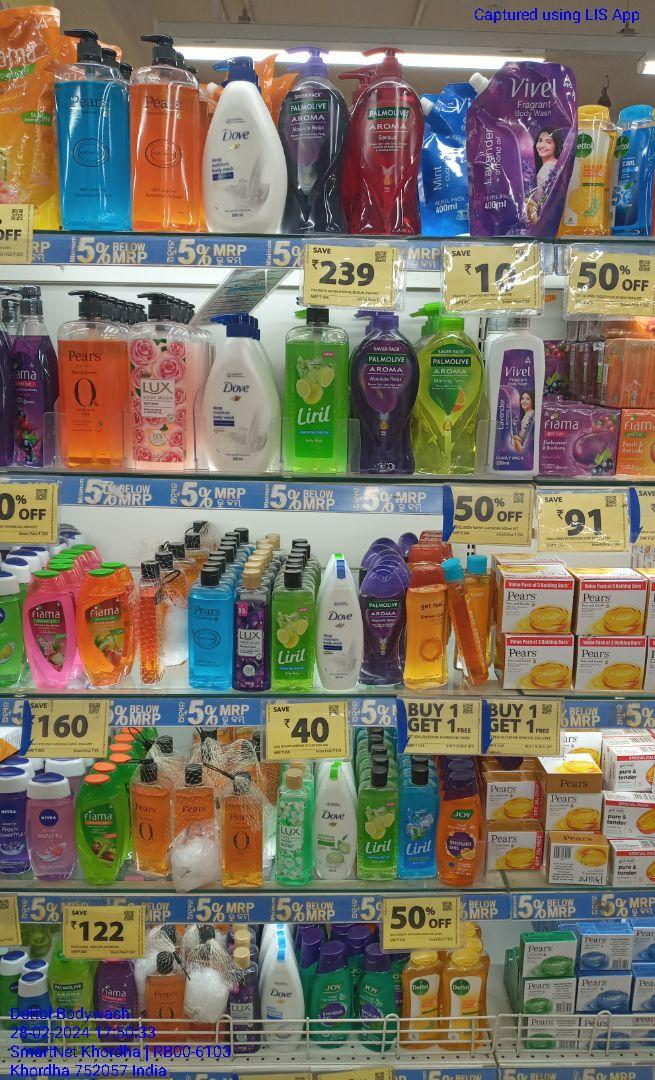Dettol_Bodywash_Cool: (615, 104, 655, 234)
Dettol_Bodywash_Refresh: (572, 102, 611, 238), (443, 954, 483, 1051), (406, 954, 441, 1050)
Dove_Deep_Moisture_Body_Wash_250ML: (320, 562, 361, 693)
Dove_Gentle_Exfoliating_Body_Wash_250ML: (261, 945, 303, 1052)
Dove_Refreshing_Body_Wash_250ML: (317, 764, 357, 881)
Fiama_Shower_Gel_Lemongrass_and_Jojoba_250ML: (78, 569, 129, 686), (75, 775, 123, 888)
Fiama_Shower_Gel_Patchouli_and_Macadamia_250ML: (25, 569, 74, 693)
Get_Real_Shower_Gel_Moisturising_Glycerin_300ML: (409, 564, 449, 689)
Joy_Shower_Gel_Mandarin_and_Lemongrass_250ML: (440, 772, 482, 890)
Joy_Shower_Gel_Mint_and_Eucalyptus_250ML: (357, 950, 393, 1053), (315, 949, 353, 1046)
Liril_Cooling_Mint_Body_Wash_250ML: (401, 766, 437, 880)
Liril_Lime_and_Tea_Tree_Oil_Body_Wash_250ML: (275, 565, 313, 695), (360, 766, 396, 882)
Lux_Black_Orchid_Scent_and_Juniper_Oil_Body_Wash_245ML: (237, 565, 273, 693)
Lux_Body_Wash_Skin_Detox_Freesia_Scent_and_Alove_Vera_245ML: (274, 770, 309, 887), (227, 950, 258, 1056)
Nivea_Shower_Gel_Waterlily_and_Oil_250ML: (25, 775, 73, 881)
Palmolive_Aroma_Morning_Tonic_Shower_Gel_250ML: (50, 954, 91, 1057)
Palmolive_Aroma_Relax_250ML: (362, 570, 400, 686)
Pears_Pure_Glycerin_and_Mint_Extracts_Body_Wash_250ML: (190, 570, 233, 694)
